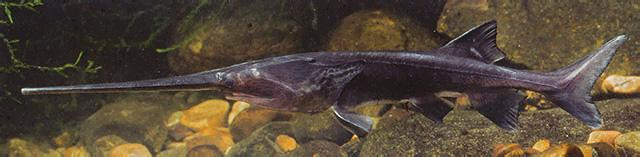Mulut: (216, 82, 256, 108)
Sirip Anal: (467, 84, 533, 136)
Sirip Dada: (322, 99, 380, 141)
Sirip Ekor: (541, 30, 633, 136)
Sirip Perut: (405, 85, 461, 131)
Sirip Punggung: (433, 14, 509, 70)
